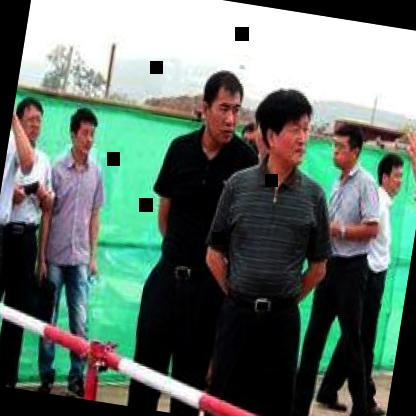head: (246, 78, 318, 178), (195, 63, 249, 149), (8, 86, 53, 154), (61, 101, 104, 165), (370, 144, 411, 206), (324, 117, 367, 176)
